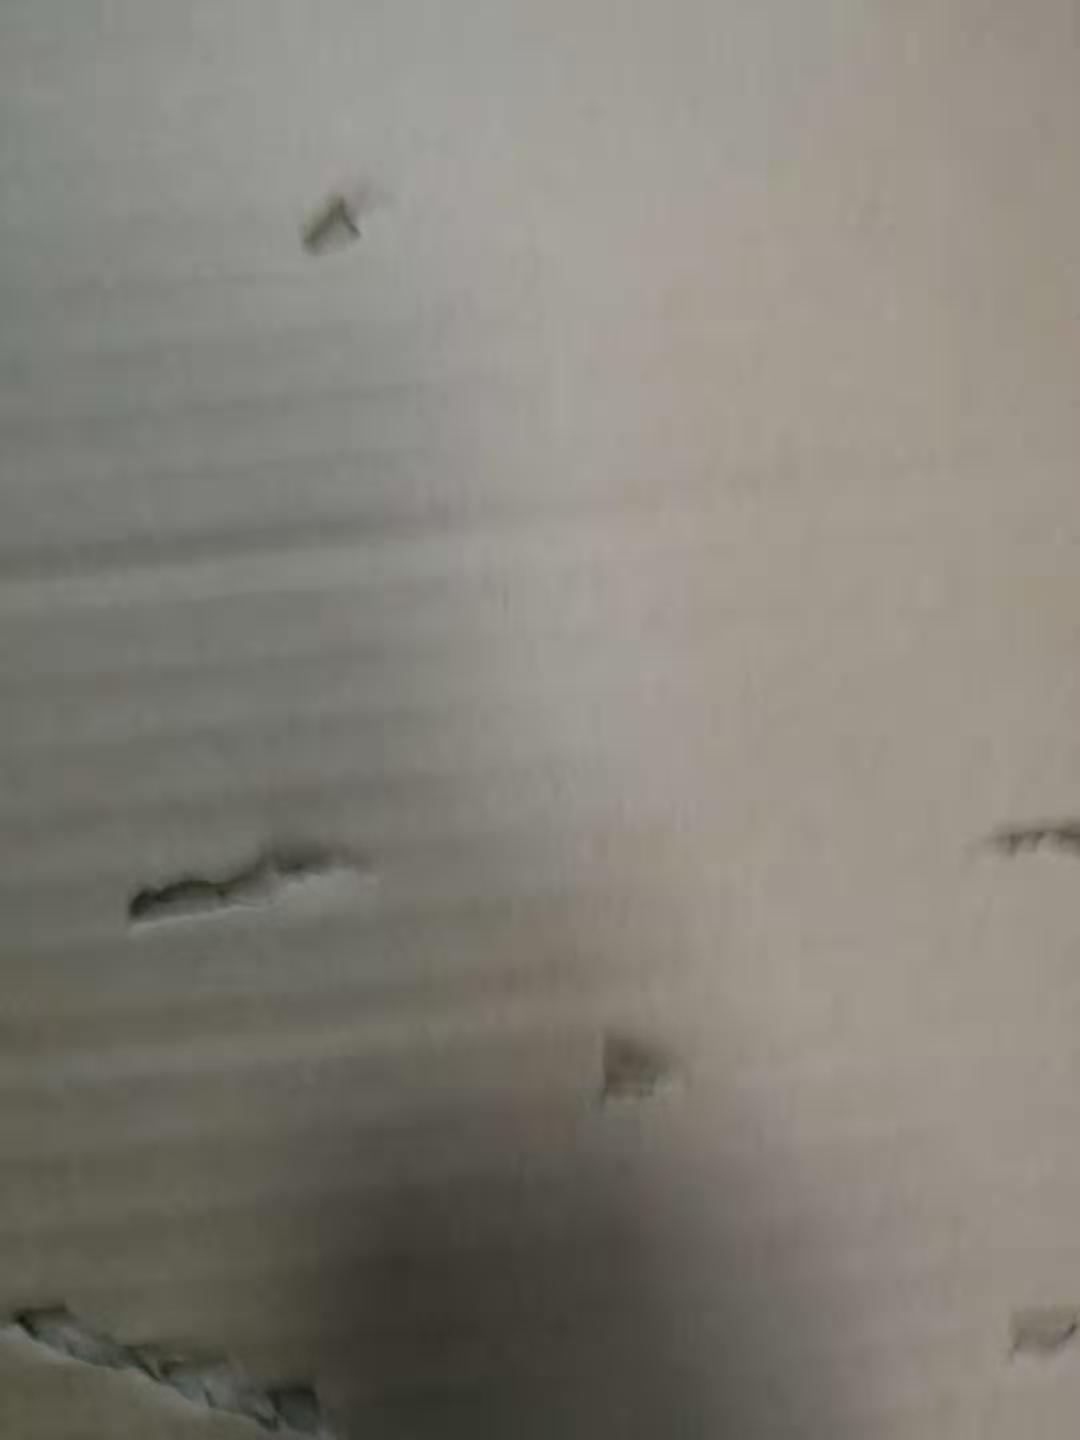defect: (2, 458, 754, 608), (3, 1236, 397, 1440), (99, 808, 408, 958), (272, 144, 434, 300), (563, 999, 725, 1133), (935, 765, 1080, 897), (979, 1259, 1080, 1389)
